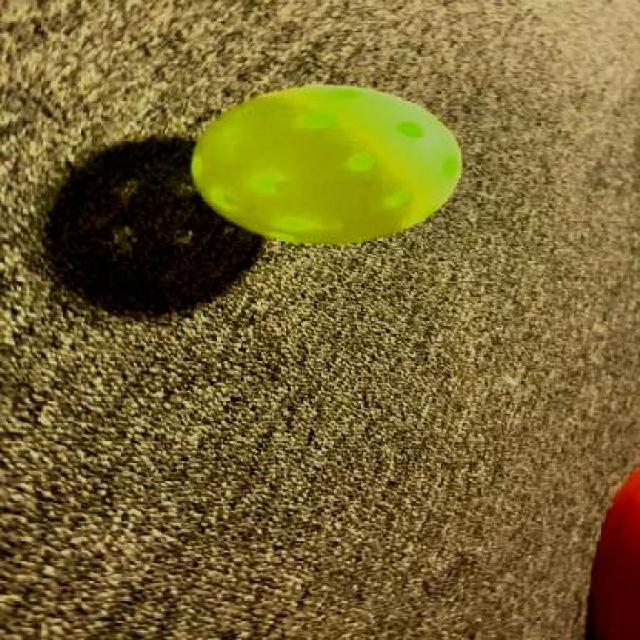ball: (183, 78, 470, 242)
